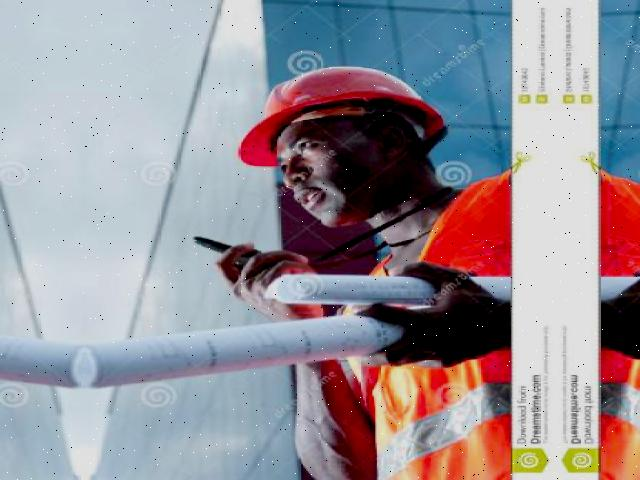Helmet: (228, 62, 452, 180)
